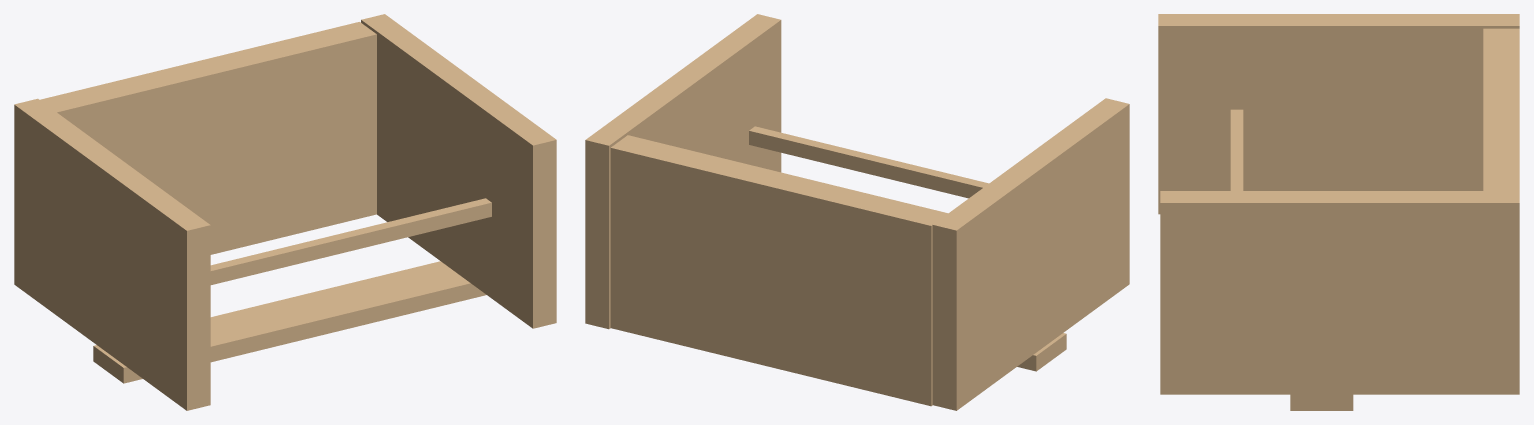
The model's file is tinker.obj.
3 views of the same model, side by side, from view 1: azimuth 30°, elevation 25°; view 2: azimuth 150°, elevation 25°; view 3: azimuth 270°, elevation 25° (orthographic). The views are drawn at different scales.
Visible parts, largest first — view 1: obj_0; view 2: obj_0; view 3: obj_0.
Part boxes in pixels (x1=…): obj_0: x1=14, y1=14, x2=556, y2=410; obj_0: x1=585, y1=14, x2=1129, y2=410; obj_0: x1=1158, y1=14, x2=1519, y2=410.
Size of the model in its own units: 248 by 127 by 200.
